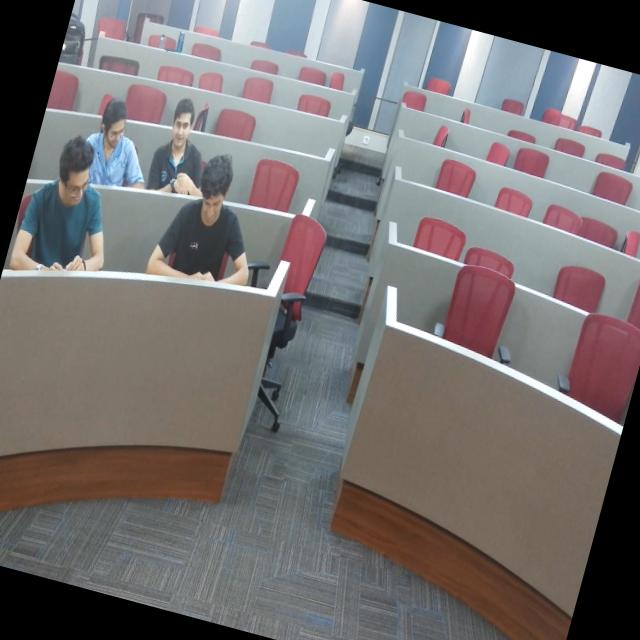cheating: (8, 122, 118, 286), (66, 96, 147, 204)
non-cheating: (142, 150, 264, 306)
